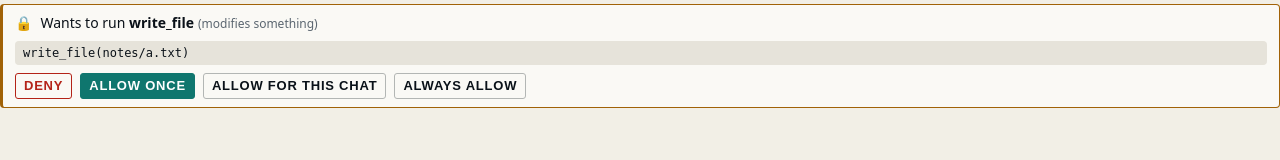
Test case: ApprovalPrompt › disables the buttons once a choice is sent, so a slow response cannot be double-submitted
Step 1. Click the button with test id "approval-once" → (138,86), box [80,73,195,99]
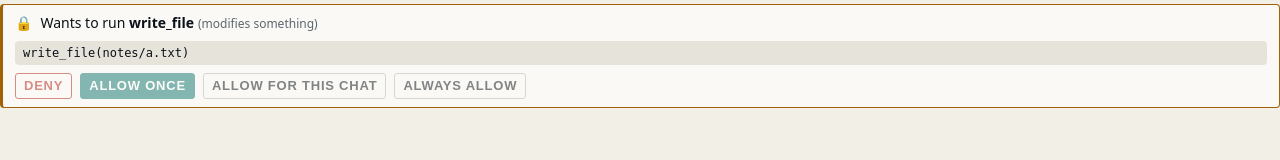
Expected: the button with test id "approval-once" is disabled, [80,73,195,99]
Expected: the button with test id "approval-deny" is disabled, [15,73,72,99]
